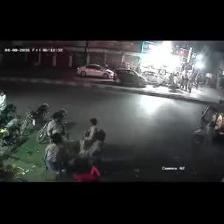person: (45, 133, 66, 170), (47, 112, 67, 142), (80, 118, 98, 148), (0, 91, 6, 114)
